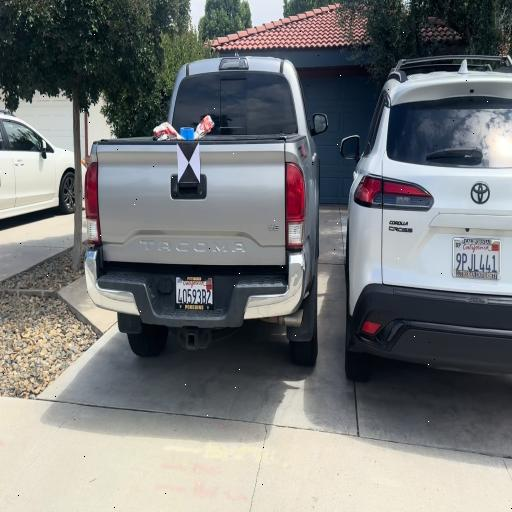target: (176, 142, 200, 182)
